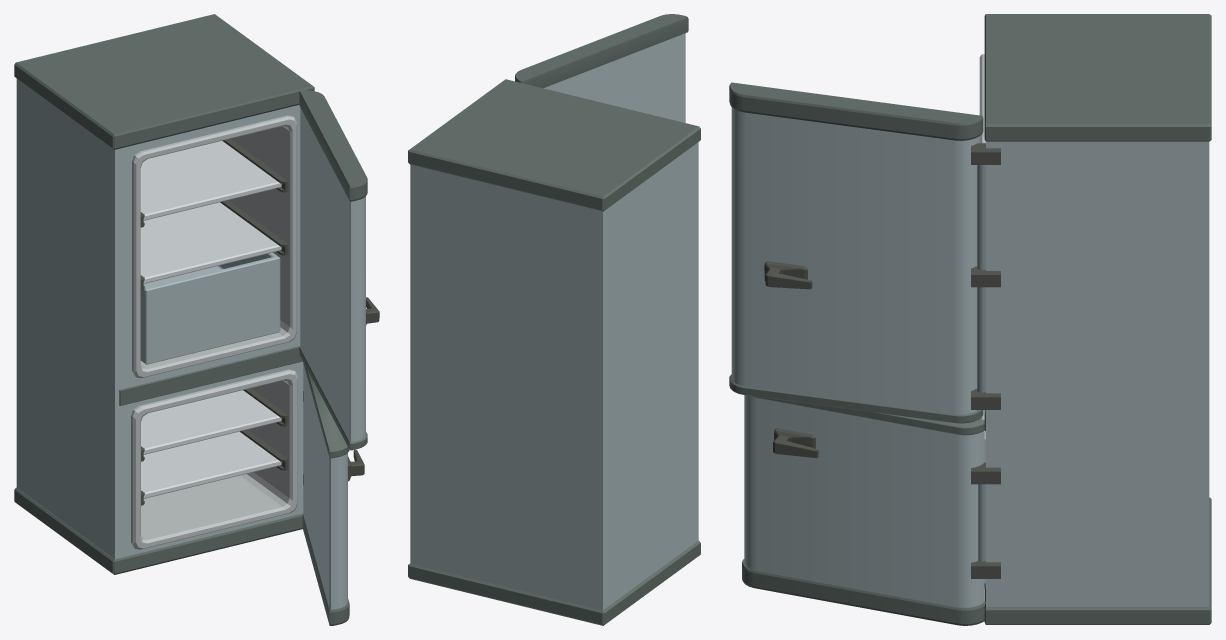
The model's file is Refrigerator.fbx.
3 views of the same model, side by side, from view 1: azimuth 30°, elevation 25°; view 2: azimuth 150°, elevation 25°; view 3: azimuth 270°, elevation 25° (orthographic). The views are drawn at different scales.
Visible parts, largest first — view 1: Refri004.016, Door001.009, Refri002.007, Door002.009, Refri002.008, Refri002.011, Refri003.006, Refri003.008; view 2: Refri004.016, Door001.009; view 3: Refri004.016, Door001.009, Door002.009.
Part boxes in pixels (x1=…): Refri004.016: x1=14, y1=14, x2=314, y2=574; Door001.009: x1=299, y1=90, x2=379, y2=450; Refri002.007: x1=140, y1=252, x2=280, y2=364; Door002.009: x1=302, y1=362, x2=364, y2=625; Refri002.008: x1=140, y1=202, x2=281, y2=283; Refri002.011: x1=140, y1=141, x2=281, y2=220; Refri003.006: x1=141, y1=431, x2=281, y2=498; Refri003.008: x1=141, y1=390, x2=281, y2=454; Refri004.016: x1=408, y1=79, x2=700, y2=625; Door001.009: x1=515, y1=14, x2=688, y2=122; Refri004.016: x1=971, y1=14, x2=1211, y2=624; Door001.009: x1=729, y1=82, x2=983, y2=423; Door002.009: x1=742, y1=395, x2=985, y2=625.
Size of the model in its own units: 87.68 by 178 by 156.
4 materials, 2 textured.
